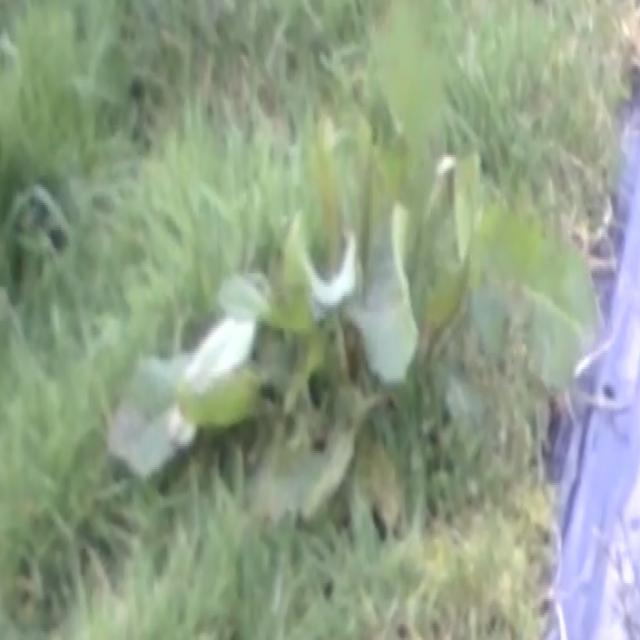organic waste: (110, 106, 611, 536)
